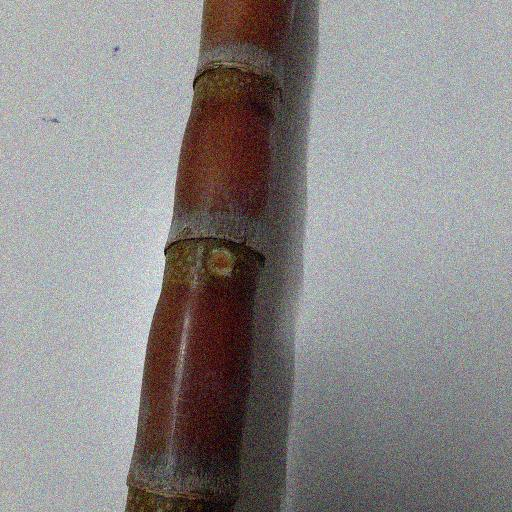Damage_Bud: (205, 246, 236, 279)
